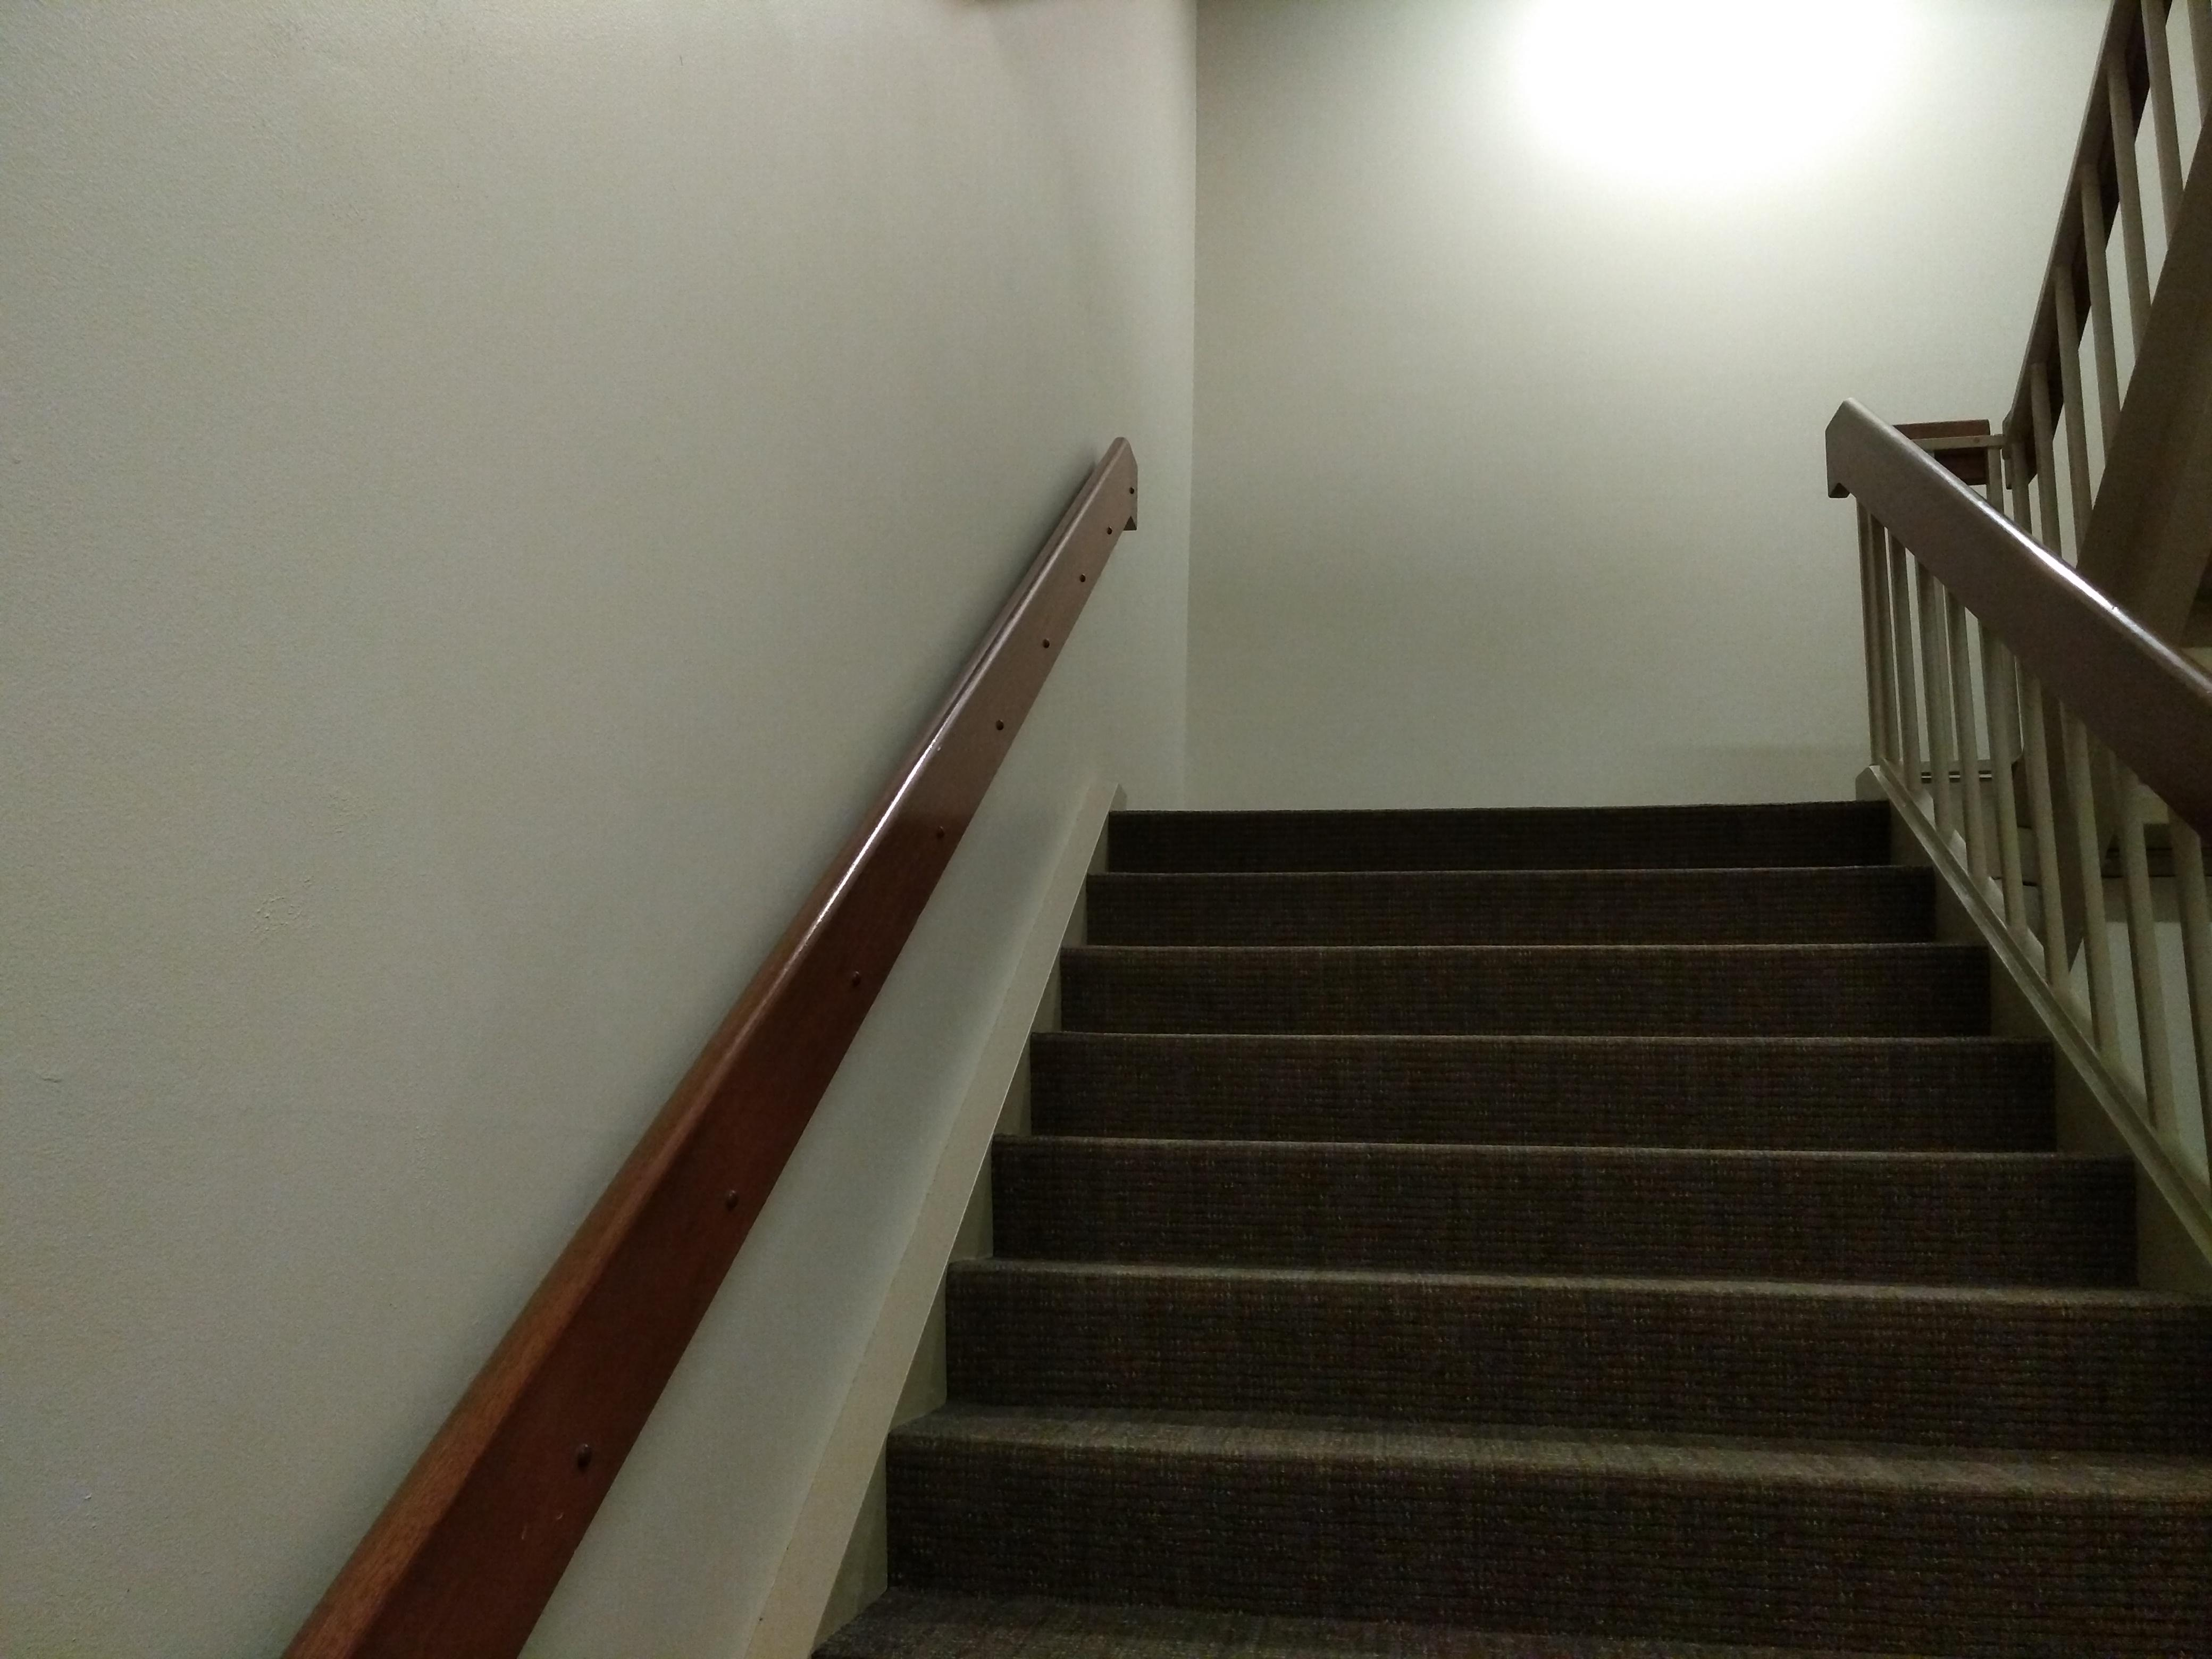stairs_up: (855, 789, 2212, 1624)
